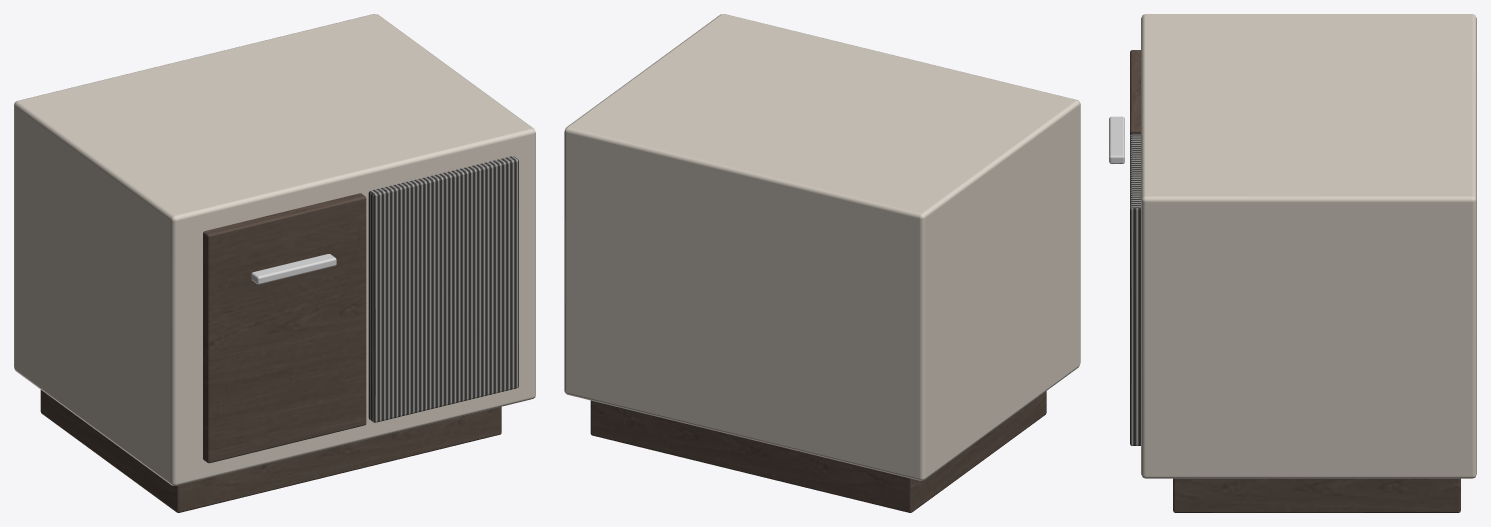
File: talya-bedset-with-wardrobe--night.glb
3 renders of one model, left to right at view 1: azimuth 30°, elevation 25°; view 2: azimuth 150°, elevation 25°; view 3: azimuth 270°, elevation 25°, orthographic. The views are drawn at different scales.
Parts seen in each view (by area): view 1: body, drawer, stripes, plinth, pull; view 2: body, plinth; view 3: body, plinth, stripes, drawer, pull.
Part boxes in pixels (x1=…): body: x1=14, y1=14, x2=535, y2=485; drawer: x1=203, y1=193, x2=366, y2=463; stripes: x1=368, y1=156, x2=518, y2=422; plinth: x1=40, y1=390, x2=501, y2=512; pull: x1=251, y1=254, x2=336, y2=284; body: x1=564, y1=14, x2=1080, y2=480; plinth: x1=590, y1=391, x2=1046, y2=512; body: x1=1141, y1=14, x2=1476, y2=478; plinth: x1=1173, y1=478, x2=1460, y2=512; stripes: x1=1130, y1=134, x2=1140, y2=445; drawer: x1=1130, y1=50, x2=1140, y2=135; pull: x1=1109, y1=116, x2=1124, y2=163.
Size of the model in its own units: 0.55 by 0.45 by 0.46.
Materials: 4 (2 with a texture image).
